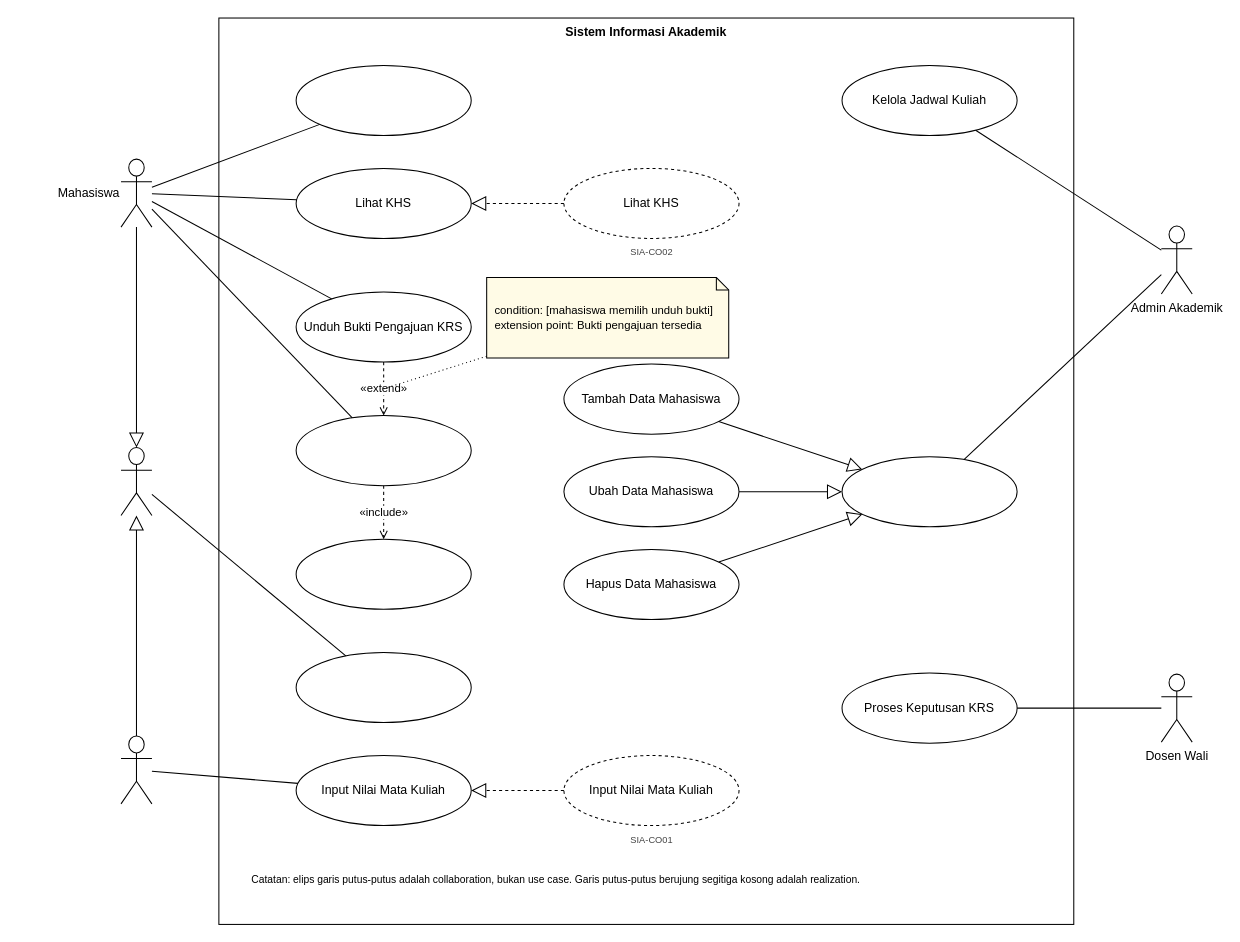
Some shapes in this 1240 by 942 pixel diagram are drawn without their labels. Here are the shapes that lost their labels. From the top down, the centre of each, then its label:
At point (383, 99): "Lihat Jadwal Kuliah".
At point (383, 450): "Ajukan KRS".
At point (136, 481): "Civitas Akademika".
At point (929, 491): "Kelola Data Mahasiswa".
At point (383, 573): "Validasi KRS".
At point (383, 687): "Lihat Kalender Akademik".
At point (136, 769): "Dosen".
